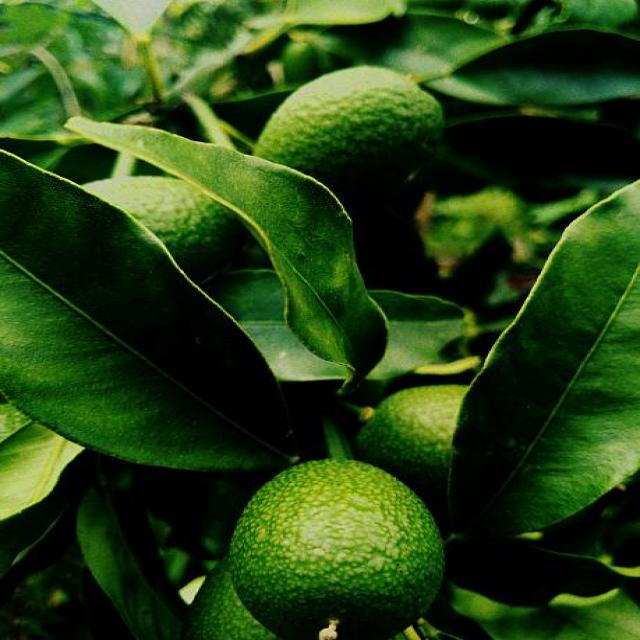Avocado: (216, 456, 460, 640), (248, 67, 465, 191), (71, 159, 262, 281), (330, 364, 459, 472)
